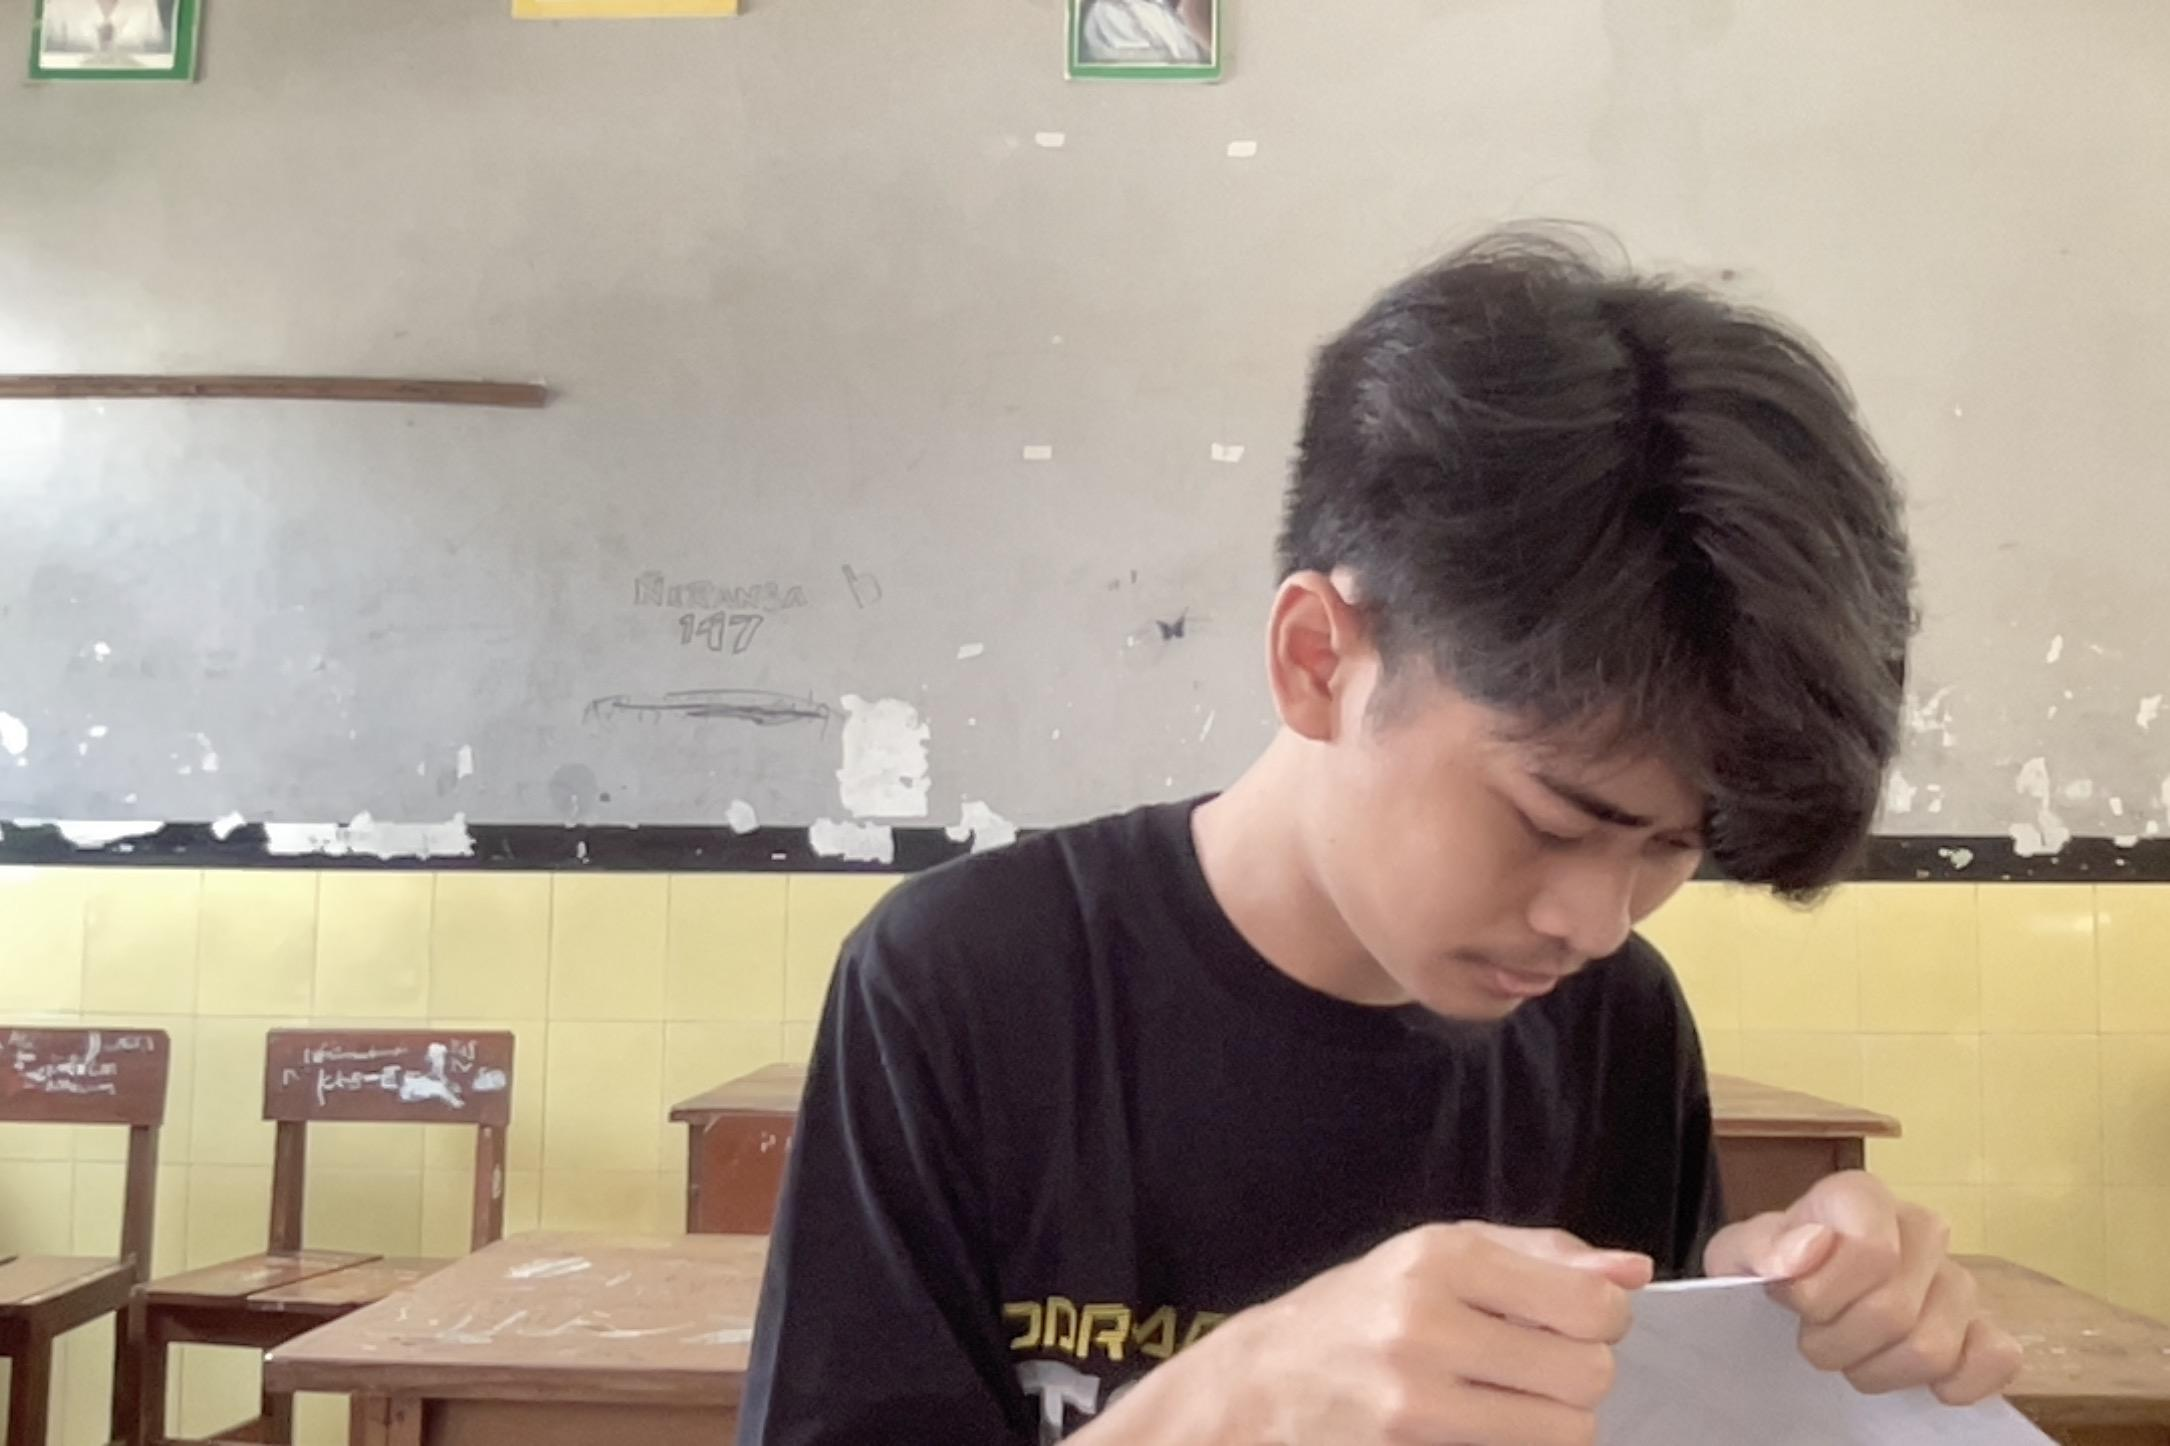good: (728, 184, 2104, 1446)
